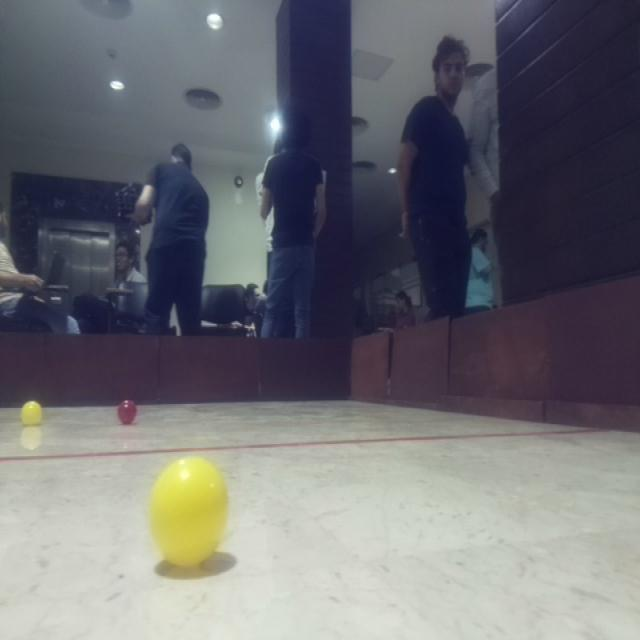ball: (114, 392, 140, 430), (20, 398, 46, 431)
